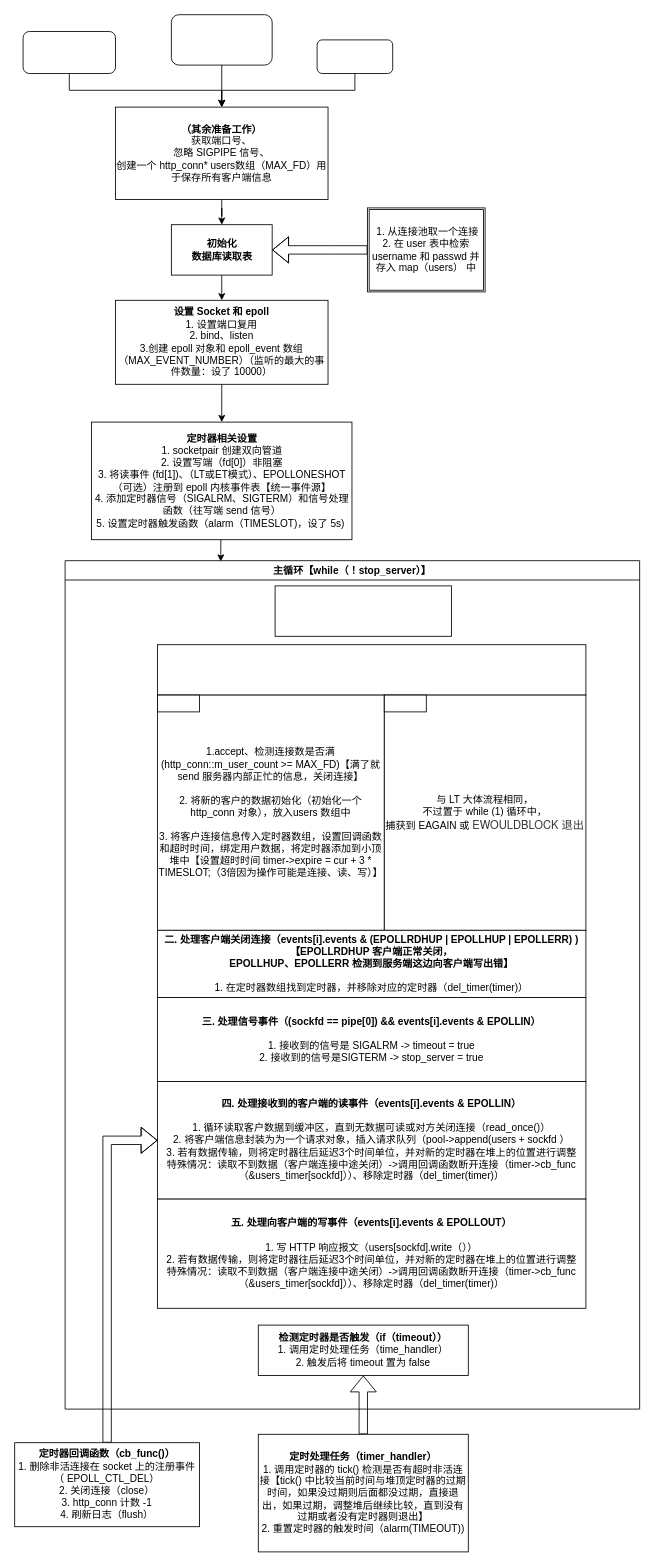
The diagram is 654 pixels wide and 1567 high, and some of its shapes have lost their labels. The centre of each missing label's shape, as x and y in pixels:
1. epoll_wait 检测 epoll_event 2. 循环遍历事件数组: the point at 363,610
ET: the point at 404,703
LT: the point at 178,703
一. 处理新到的客户连接（sockfd == listenfd）: the point at 371,669
初始化 线程池: the point at 354,56
单例模式 获取实例化的数据库连接池: the point at 221,39
单例模式 获取实例化的日志: the point at 69,52
